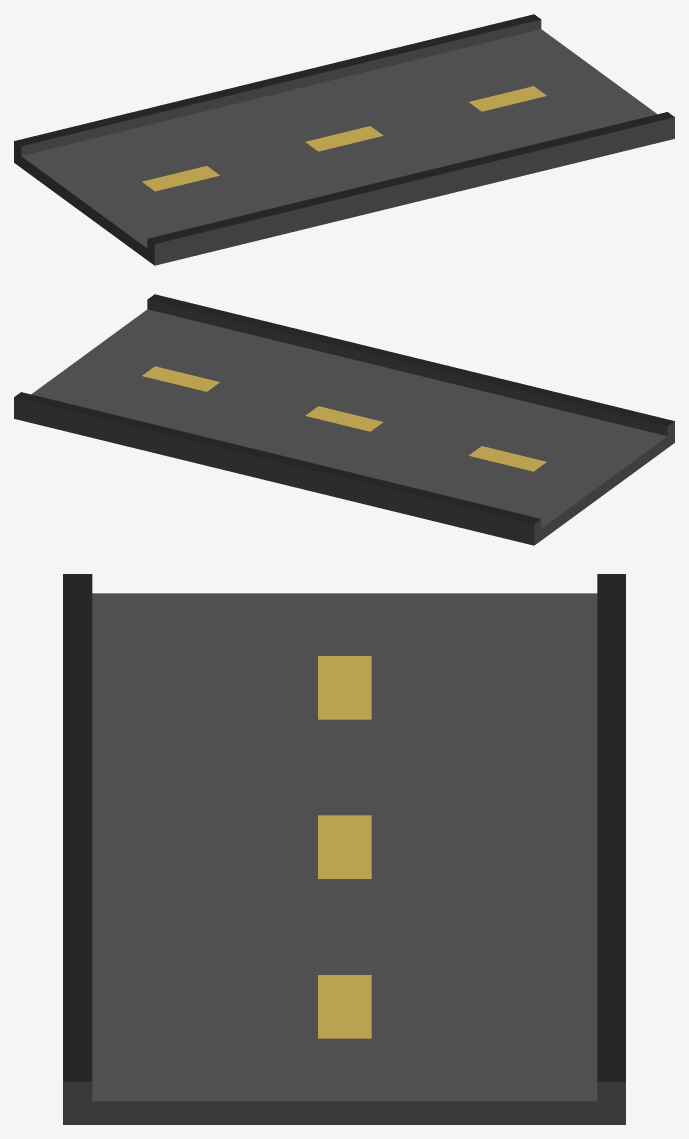
Rendered from RoadInSity.fbx.
3 renders of one model, top to bottom at view 1: azimuth 30°, elevation 25°; view 2: azimuth 150°, elevation 25°; view 3: azimuth 270°, elevation 25°, orthographic. The views are drawn at different scales.
Visible parts, largest first — view 1: Cube, Plane.001, Plane, Plane.002; view 2: Cube, Plane.002, Plane.001, Plane; view 3: Cube, Plane.002, Plane.001, Plane.
Part boxes in pixels (<box>): Cube: <box>14,14,674,265</box>; Plane.001: <box>305,126,383,151</box>; Plane: <box>469,86,546,111</box>; Plane.002: <box>142,166,219,191</box>; Cube: <box>14,294,674,545</box>; Plane.002: <box>468,446,546,471</box>; Plane.001: <box>305,406,383,431</box>; Plane: <box>142,366,219,391</box>; Cube: <box>63,574,625,1124</box>; Plane.002: <box>318,656,371,719</box>; Plane.001: <box>318,815,371,878</box>; Plane: <box>318,975,371,1038</box>.
Bounding box in the file's own units: 1273 × 50.49 × 597.
